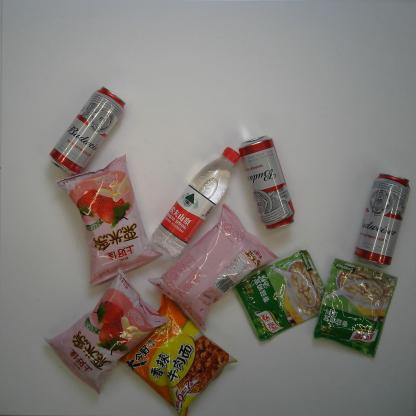Alcohol: (48, 86, 127, 176), (353, 172, 412, 270), (238, 134, 296, 231)
Drink: (150, 146, 242, 258)
Instant Noodles: (118, 292, 239, 416)
Puffed Food: (148, 201, 280, 333), (44, 266, 168, 395), (54, 153, 164, 287)
Seasoner: (233, 248, 326, 342), (313, 258, 399, 358)
